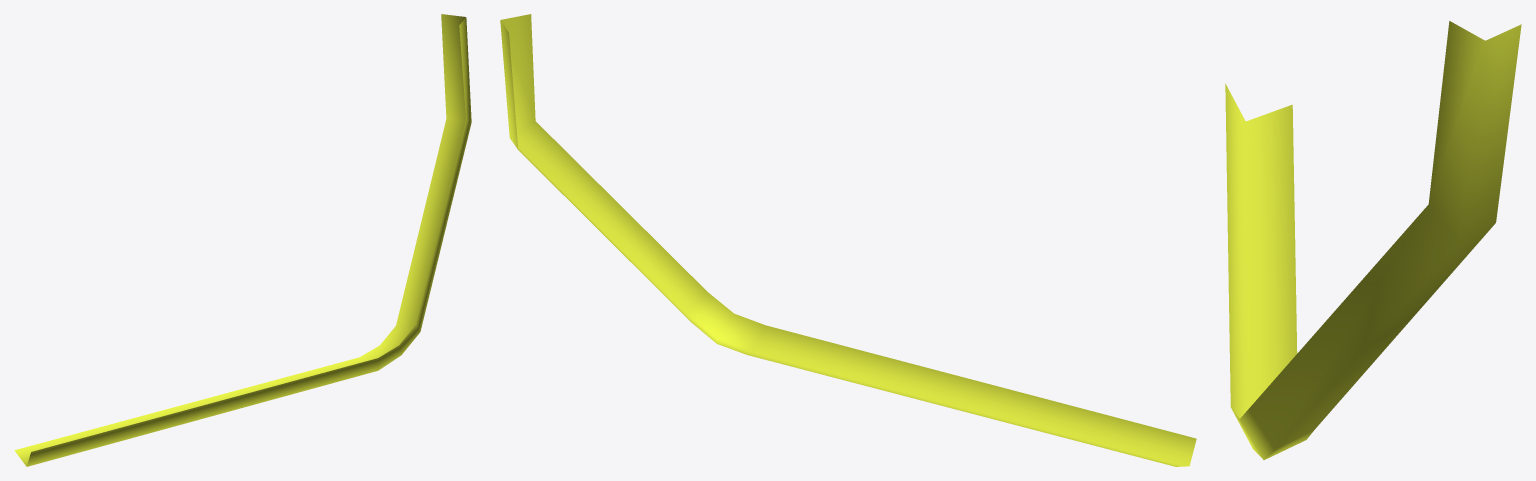
File: b_polySurface603_b_BMW_i8Elite_2_576.glb
3 views of the same model, side by side, from view 1: azimuth 30°, elevation 25°; view 2: azimuth 150°, elevation 25°; view 3: azimuth 270°, elevation 25° (orthographic). The views are drawn at different scales.
Parts seen in each view (by area): view 1: b:polySurface603_b:BMW_i8Elite_2017CalliperGloss_Material1_0; view 2: b:polySurface603_b:BMW_i8Elite_2017CalliperGloss_Material1_0; view 3: b:polySurface603_b:BMW_i8Elite_2017CalliperGloss_Material1_0.
Part boxes in pixels (<box>): b:polySurface603_b:BMW_i8Elite_2017CalliperGloss_Material1_0: <box>14,14,471,466</box>; b:polySurface603_b:BMW_i8Elite_2017CalliperGloss_Material1_0: <box>500,14,1196,466</box>; b:polySurface603_b:BMW_i8Elite_2017CalliperGloss_Material1_0: <box>1225,21,1521,459</box>.
Size of the model in its own units: 0.0793 by 0.0434 by 0.0203.
